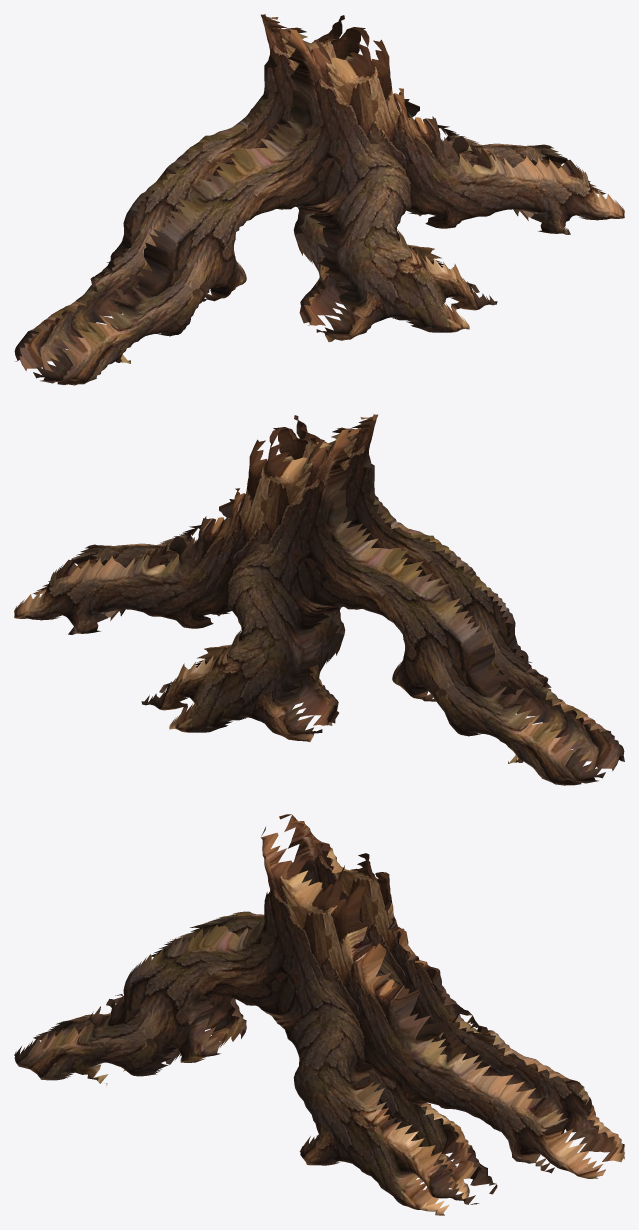
File: v4-woodland-camp-scatter-root-cluster.glb
The picture shows the model from 3 angles, top to bottom: view 1: azimuth 30°, elevation 25°; view 2: azimuth 150°, elevation 25°; view 3: azimuth 330°, elevation 25°; orthographic projection.
Visible parts, largest first — view 1: v4-woodland-camp-scatter-root-cluster; view 2: v4-woodland-camp-scatter-root-cluster; view 3: v4-woodland-camp-scatter-root-cluster.
Part boxes in pixels (bbox=[...]): v4-woodland-camp-scatter-root-cluster: bbox=[14, 14, 624, 385]; v4-woodland-camp-scatter-root-cluster: bbox=[14, 414, 624, 785]; v4-woodland-camp-scatter-root-cluster: bbox=[14, 814, 624, 1215].
Size of the model in its own units: 0.97 by 0.5376 by 0.132.
1 material, 1 textured.
